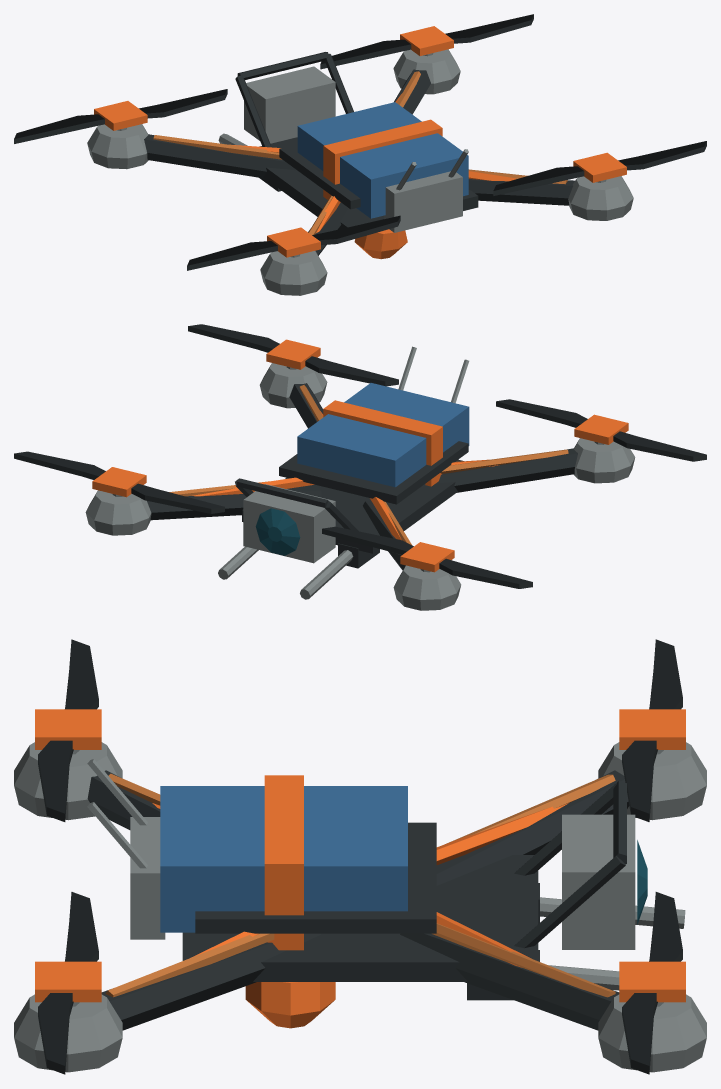
File: fpv-v1.glb
The picture shows the model from 3 angles, top to bottom: view 1: azimuth 30°, elevation 25°; view 2: azimuth 150°, elevation 25°; view 3: azimuth 270°, elevation 25°; orthographic projection. The views are drawn at different scales.
Parts seen in each view (by area): view 1: fpv-frame, fpv-propeller-mesh--1--1, fpv-propeller-mesh--1-1, fpv-propeller-mesh-1-1, fpv-propeller-mesh-1--1; view 2: fpv-frame, fpv-propeller-mesh--1-1, fpv-propeller-mesh--1--1, fpv-propeller-mesh-1--1, fpv-propeller-mesh-1-1; view 3: fpv-frame, fpv-propeller-mesh-1--1, fpv-propeller-mesh-1-1, fpv-propeller-mesh--1-1, fpv-propeller-mesh--1--1.
Boxes of the visible parts, x1=… form: fpv-frame: x1=87, y1=49, x2=633, y2=295; fpv-propeller-mesh--1--1: x1=14, y1=89, x2=227, y2=143; fpv-propeller-mesh--1-1: x1=187, y1=215, x2=400, y2=270; fpv-propeller-mesh-1-1: x1=493, y1=141, x2=706, y2=195; fpv-propeller-mesh-1--1: x1=320, y1=14, x2=533, y2=69; fpv-frame: x1=85, y1=346, x2=635, y2=610; fpv-propeller-mesh--1-1: x1=496, y1=399, x2=706, y2=461; fpv-propeller-mesh--1--1: x1=322, y1=526, x2=532, y2=588; fpv-propeller-mesh-1--1: x1=14, y1=451, x2=224, y2=513; fpv-propeller-mesh-1-1: x1=188, y1=324, x2=398, y2=386; fpv-frame: x1=14, y1=742, x2=706, y2=1072; fpv-propeller-mesh-1--1: x1=619, y1=892, x2=685, y2=1074; fpv-propeller-mesh-1-1: x1=35, y1=892, x2=101, y2=1074; fpv-propeller-mesh--1-1: x1=35, y1=639, x2=101, y2=821; fpv-propeller-mesh--1--1: x1=619, y1=639, x2=685, y2=821.
Size of the model in its own units: 15.9 by 4.14 by 10.91.
